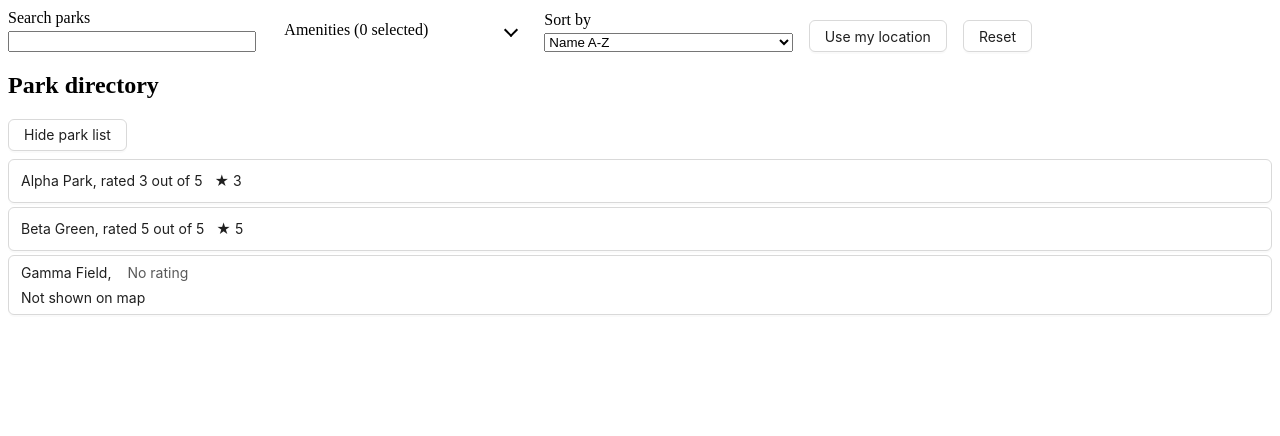
Test: SearchBar › use my location › shows and announces a message when location is denied
The image size is (1280, 436).
Click the button "Use my location": (878, 36) 809,20 -> 947,52
Wait 600 ms
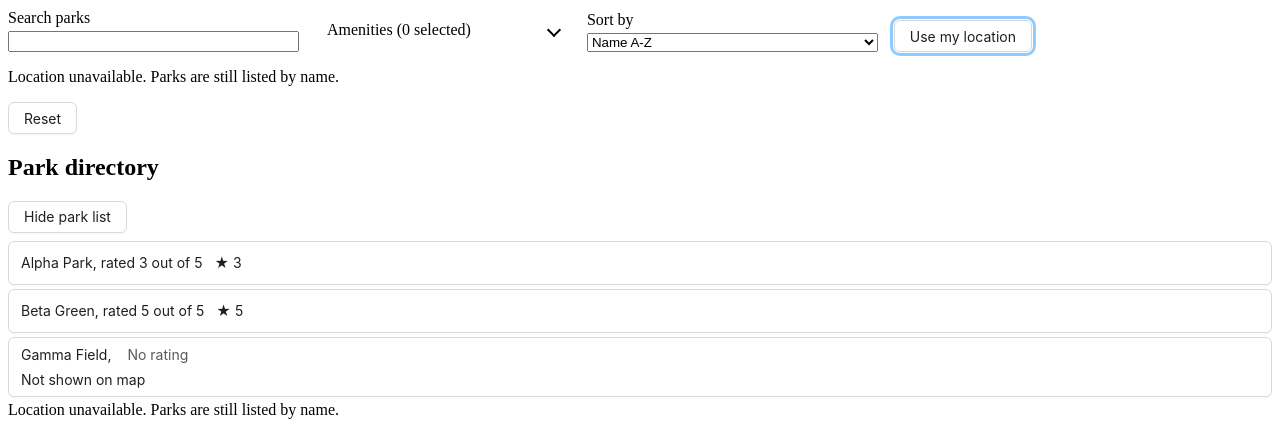
Expected: the dropdown labelled "Sort by" shows "Name A-Z", 587,33 -> 878,52
Now the text "Location unavailable. Parks are still listed by name." is shown, box 8,68 -> 339,85
Now the message shows "Location unavailable", box 8,401 -> 339,418
